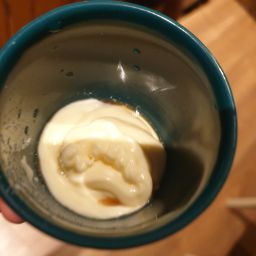Mayonnaise: (31, 91, 168, 216), (60, 115, 149, 205)
